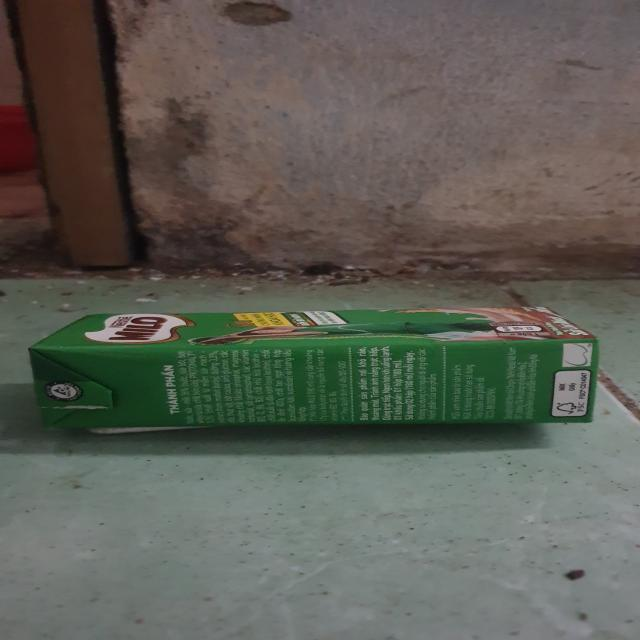Milo: (32, 301, 599, 436)
